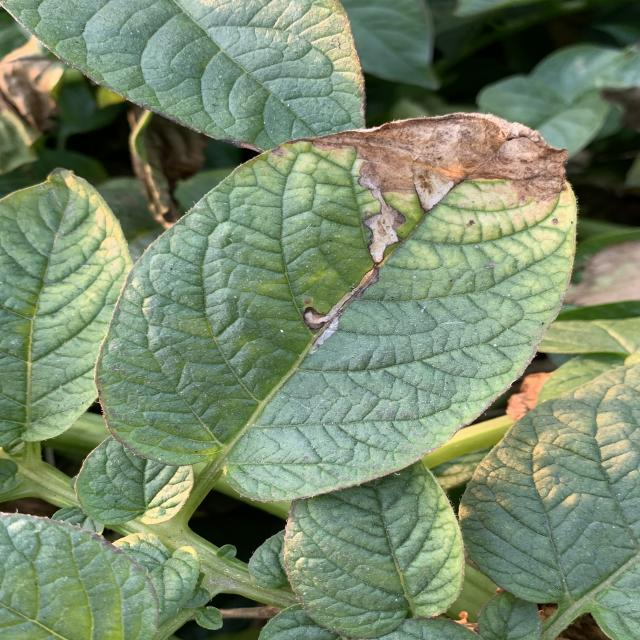lateblight: (303, 114, 567, 262)
